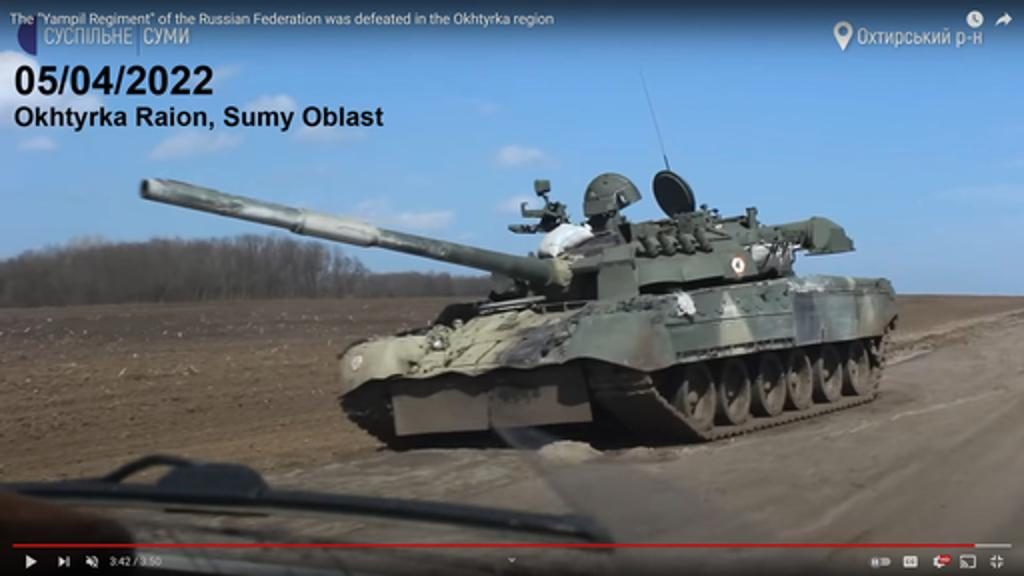TANK: (120, 158, 900, 444)
